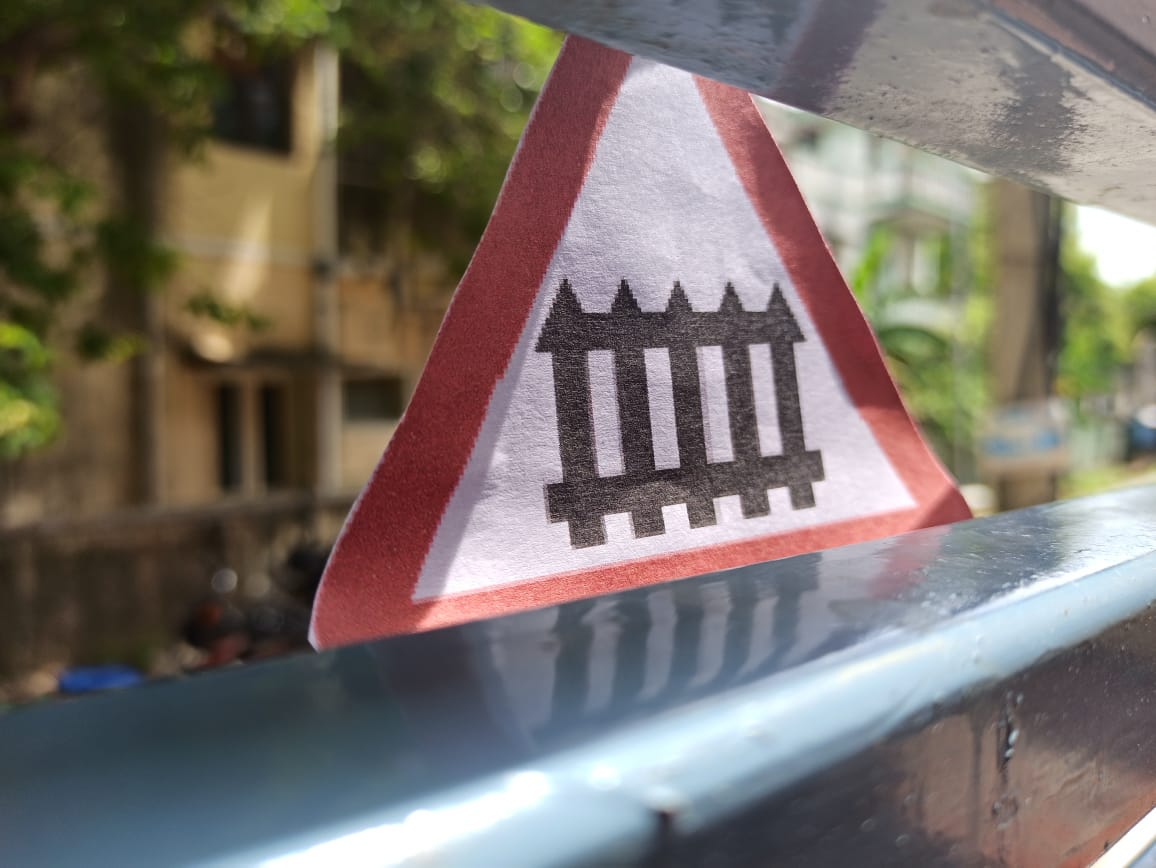GUARDED LEVEL CROSSING: (290, 48, 1019, 649)
